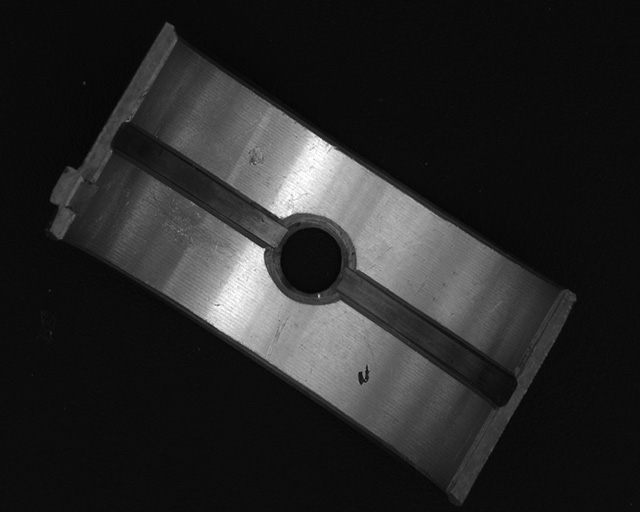blot: (357, 364, 371, 386)
bruise: (246, 146, 266, 167)
gap: (342, 271, 515, 406), (112, 122, 283, 245)
hole: (271, 215, 349, 302)
nick: (264, 315, 291, 361)
scratch: (142, 186, 238, 261)
